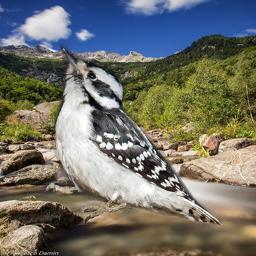Woodpecker: (40, 44, 222, 225)
